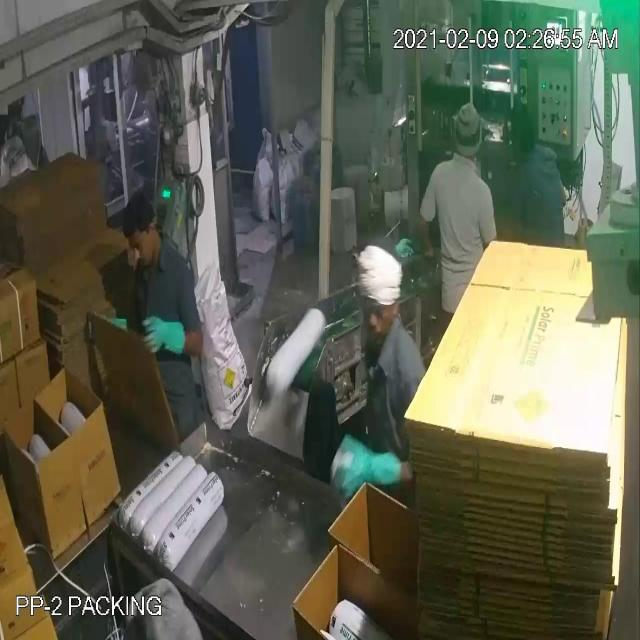Gloves: (24, 60, 426, 466)
